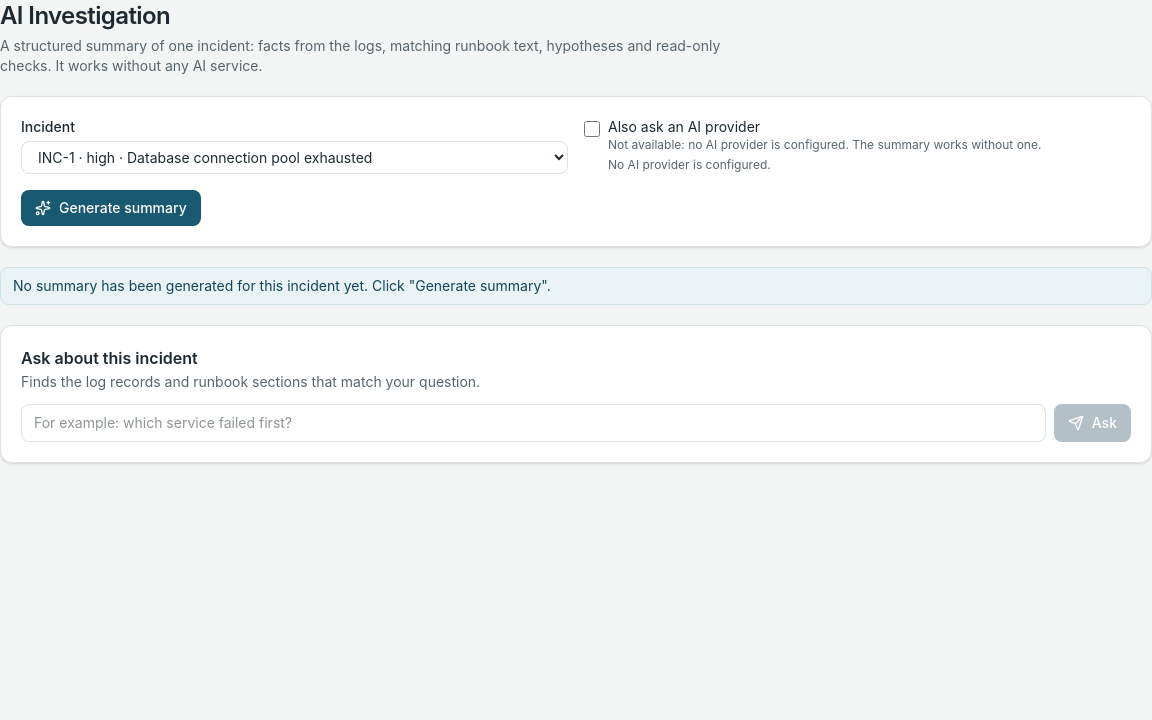
Scenario: AI Investigation › says AI is unavailable and still generates a summary without it
This screenshot has width=1152, height=720.
Expected: the text "no AI provider is configured" is shown, left=608, top=137, right=1041, bottom=152
Expected: the checkbox labelled "ask an AI provider" is not checked, left=584, top=121, right=600, bottom=137
Click the button "Generate summary": (111, 208) left=21, top=190, right=201, bottom=226
(page scrolled)
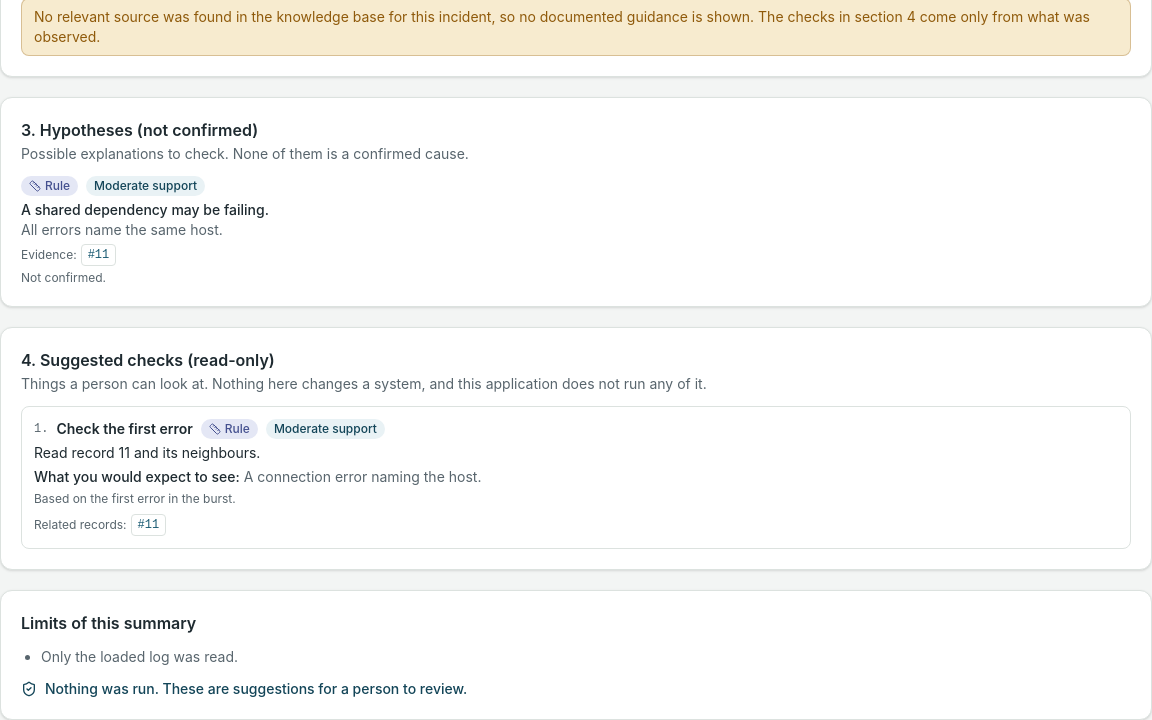
Now the text "No relevant source was found" is shown, box left=34, top=8, right=1090, bottom=45
Now the heading "3. Hypotheses (not confirmed)" is shown, box left=21, top=120, right=258, bottom=140
Now the heading "4. Suggested checks (read-only)" is shown, box left=21, top=350, right=275, bottom=370
